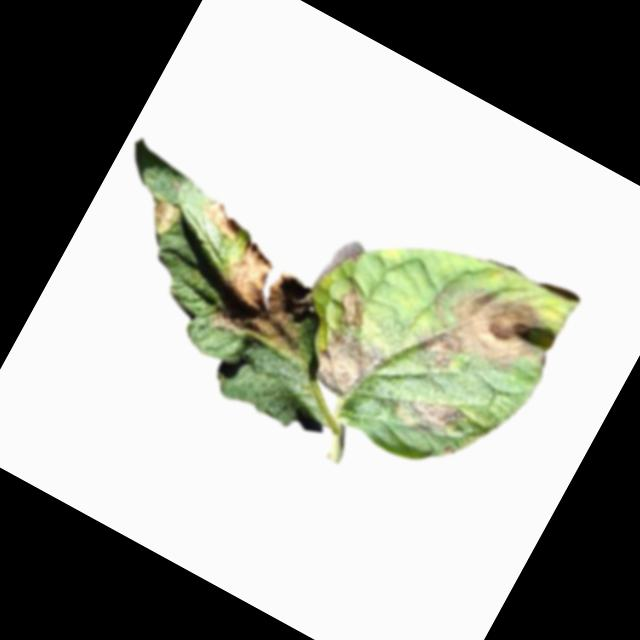Late_blight: (407, 264, 554, 405), (196, 233, 337, 370), (303, 323, 391, 410), (383, 377, 468, 453), (193, 194, 250, 244), (137, 192, 185, 242), (332, 285, 375, 331)
